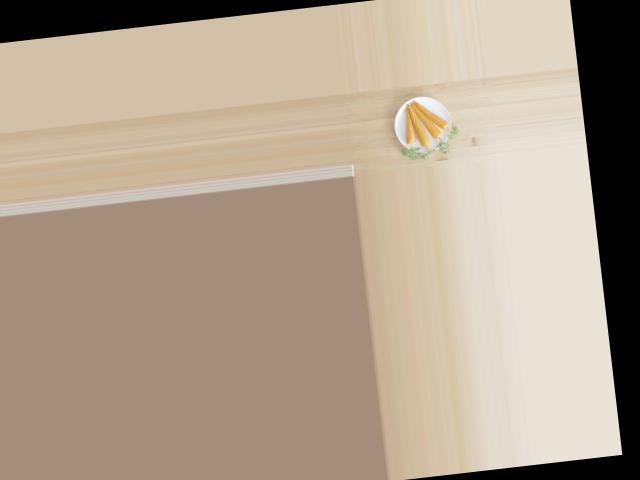carrot: (413, 94, 451, 135)
